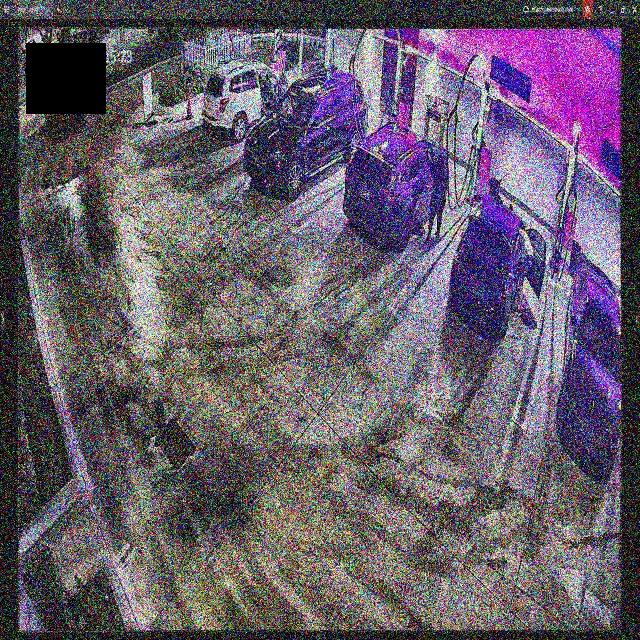Car: (245, 69, 368, 195), (440, 194, 543, 338), (345, 118, 447, 254)
